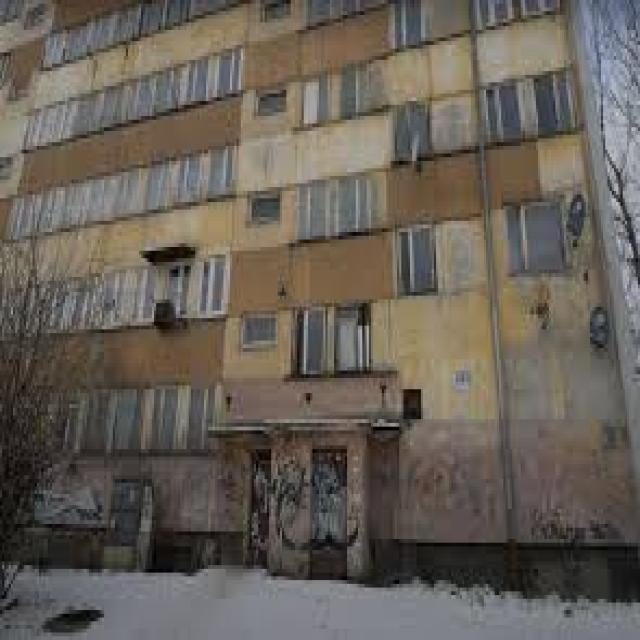window: (508, 202, 572, 281), (529, 79, 588, 142), (332, 311, 375, 378), (186, 254, 228, 322), (291, 311, 332, 378), (397, 224, 436, 292), (482, 86, 522, 150), (297, 183, 336, 240), (338, 180, 379, 228), (390, 4, 434, 45), (160, 262, 191, 318), (95, 266, 124, 322), (403, 105, 434, 157), (130, 266, 156, 322)
